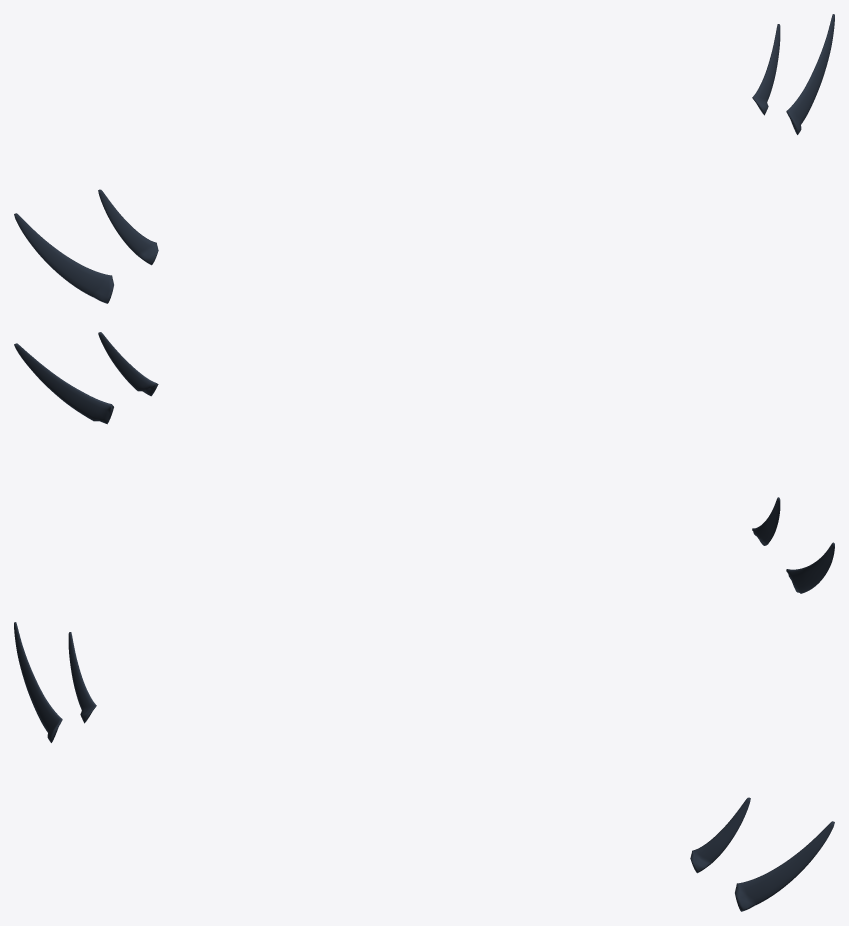
The model's file is Feminine-bean-lashes.glb.
3 renders of one model, top to bottom at view 1: azimuth 30°, elevation 25°; view 2: azimuth 150°, elevation 25°; view 3: azimuth 330°, elevation 25°, orthographic.
Parts seen in each view (by area): view 1: 226 eyelashes / Lashes / charcoal234; view 2: 226 eyelashes / Lashes / charcoal234; view 3: 226 eyelashes / Lashes / charcoal234.
Boxes of the visible parts, x1,y1,x2,y2 form: 226 eyelashes / Lashes / charcoal234: (14,14,834,303); 226 eyelashes / Lashes / charcoal234: (14,332,834,593); 226 eyelashes / Lashes / charcoal234: (14,622,834,911).
Size of the model in its own units: 0.4829 by 0.058 by 0.0356.
